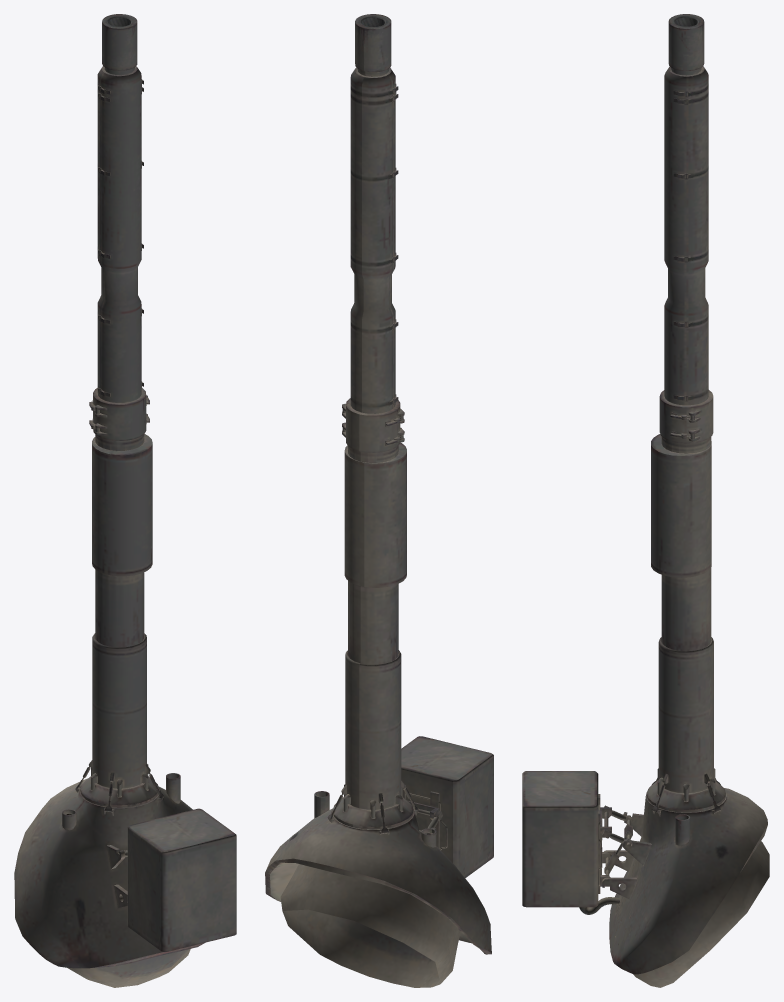
The model's file is Gun_01.glb.
The picture shows the model from 3 angles, left to right: view 1: azimuth 30°, elevation 25°; view 2: azimuth 150°, elevation 25°; view 3: azimuth 270°, elevation 25°; orthographic projection. The views are drawn at different scales.
Parts seen in each view (by area): view 1: set_0_group_0; view 2: set_0_group_0; view 3: set_0_group_0.
Boxes of the visible parts, x1,y1,x2,y2 form: set_0_group_0: (14,14,236,987); set_0_group_0: (265,14,493,987); set_0_group_0: (522,14,769,987).
Size of the model in its own units: 1.11 by 4.81 by 1.13.
1 material, 1 textured.
